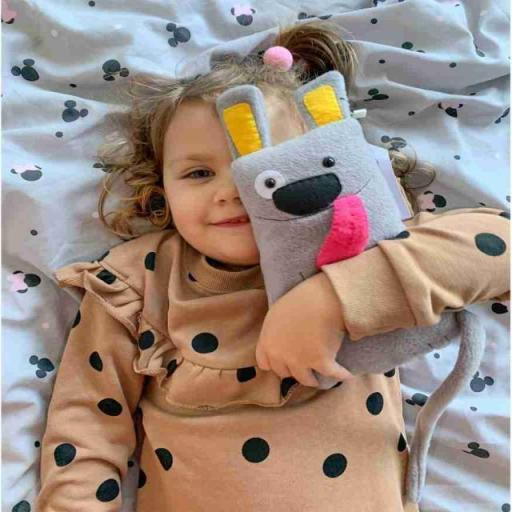baby: (36, 22, 509, 511)
